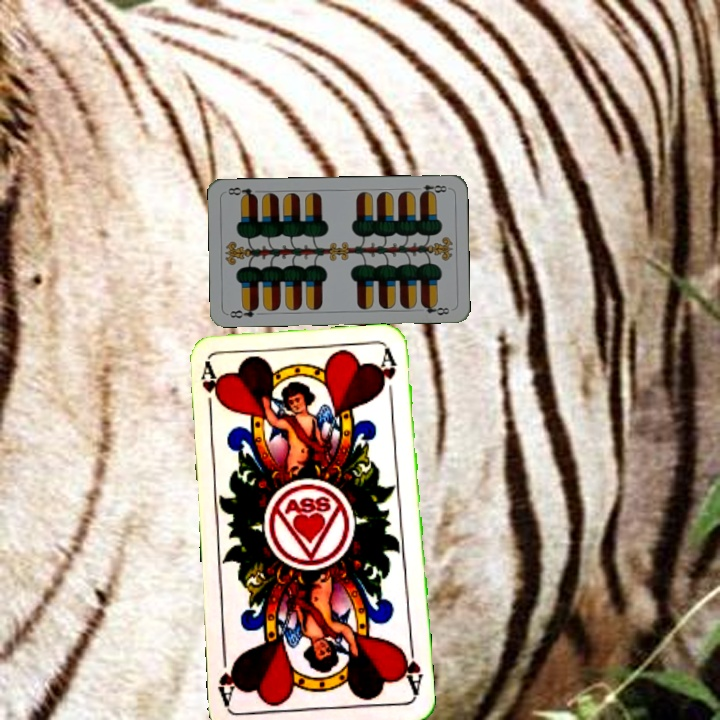E8: (226, 302, 261, 321), (416, 181, 451, 198)
HA: (396, 637, 425, 696), (196, 359, 221, 419)
